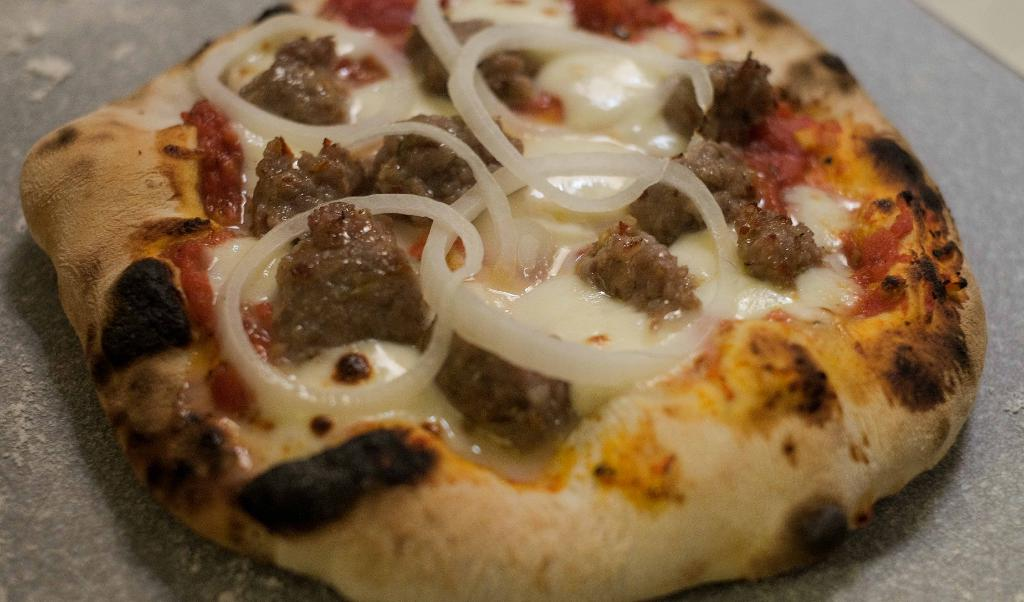Pizza: (78, 16, 961, 591)
